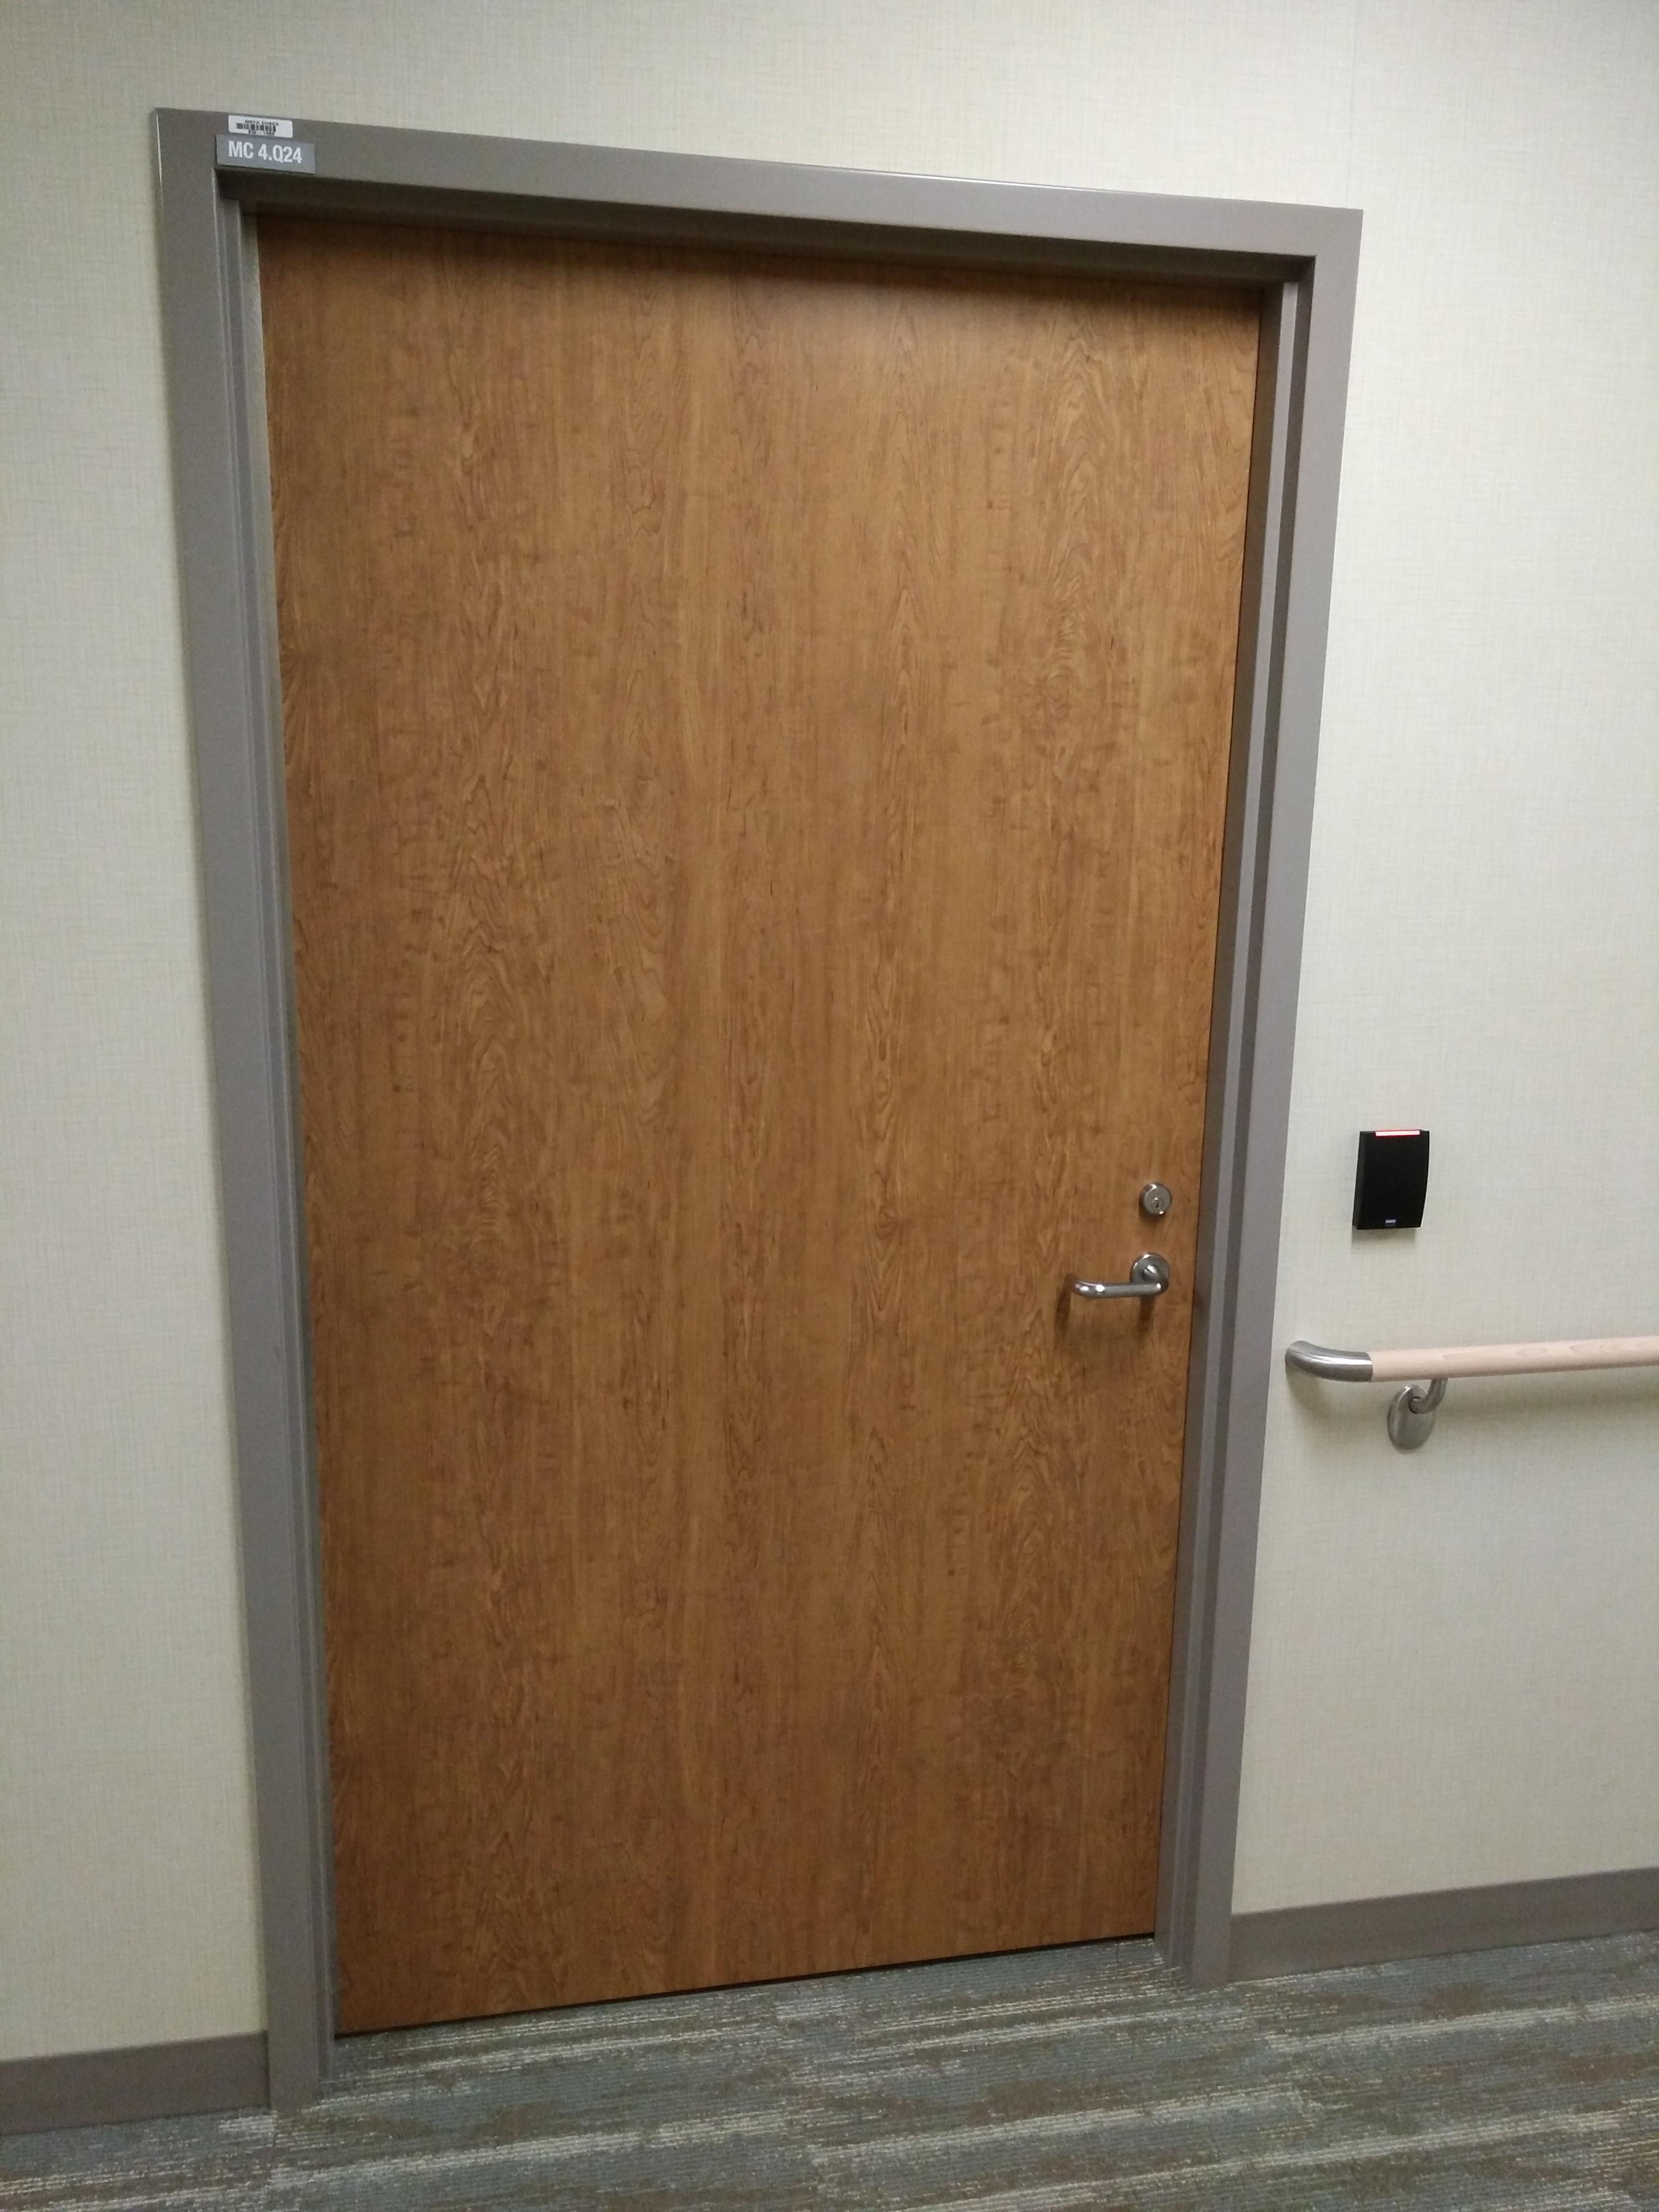door: (213, 141, 1225, 2001)
